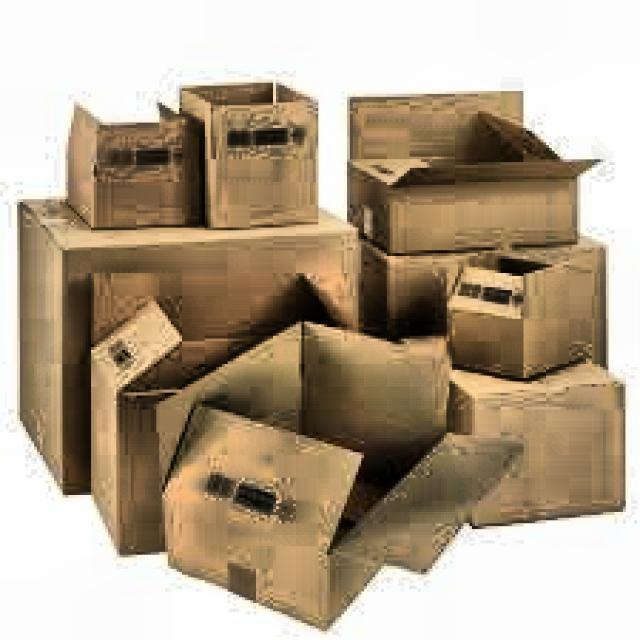cardboard: (14, 80, 626, 628)
